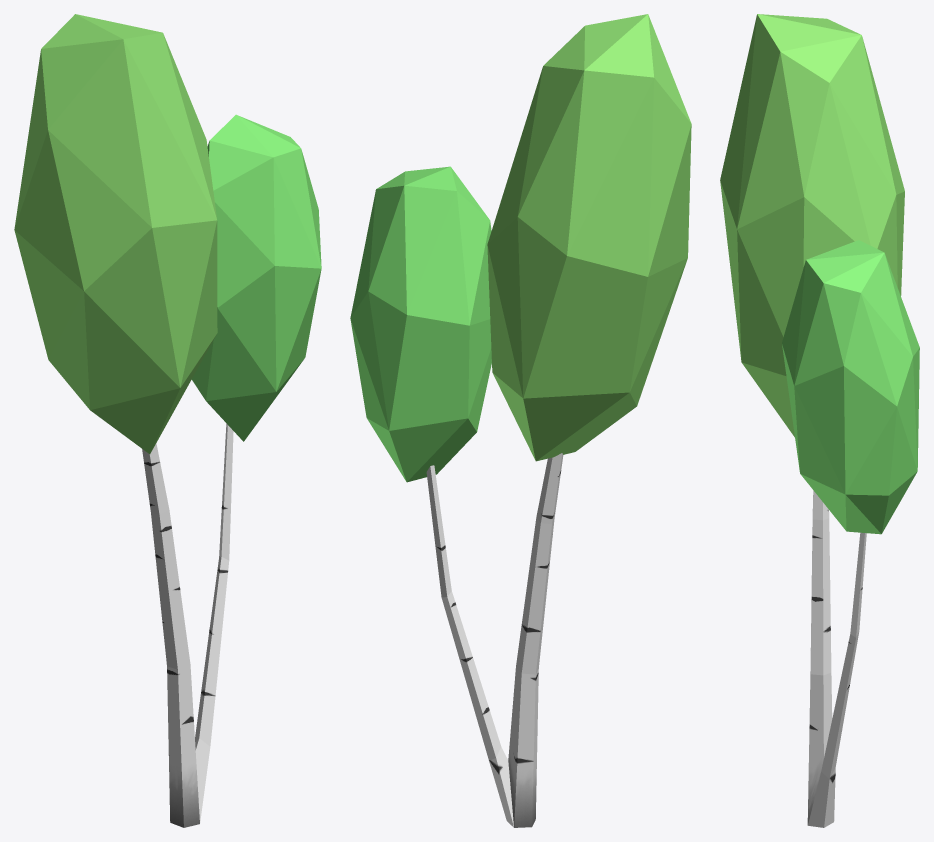
File: Birch_Tree_m_05_LOD.fbx
The picture shows the model from 3 angles, left to right: view 1: azimuth 30°, elevation 25°; view 2: azimuth 150°, elevation 25°; view 3: azimuth 270°, elevation 25°; orthographic projection. The views are drawn at different scales.
Parts seen in each view (by area): view 1: Birch_Tree_m_05_LOD0; view 2: Birch_Tree_m_05_LOD0; view 3: Birch_Tree_m_05_LOD0.
Part boxes in pixels (box(x1,y1,x2,y2)): Birch_Tree_m_05_LOD0: box(14, 14, 321, 827); Birch_Tree_m_05_LOD0: box(350, 14, 691, 827); Birch_Tree_m_05_LOD0: box(720, 14, 919, 827).
Size of what is drawn, in the model's own units: 280 by 735 by 174.
